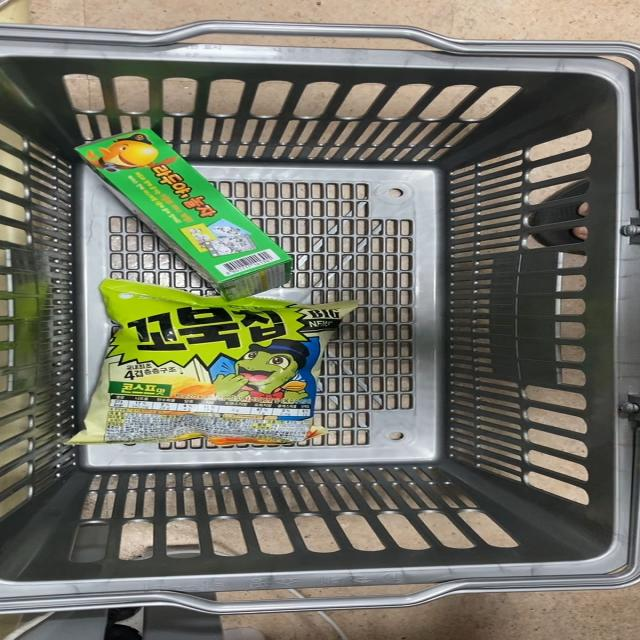ggobukchip: (74, 282, 356, 443)
goraebob: (67, 125, 307, 310)
